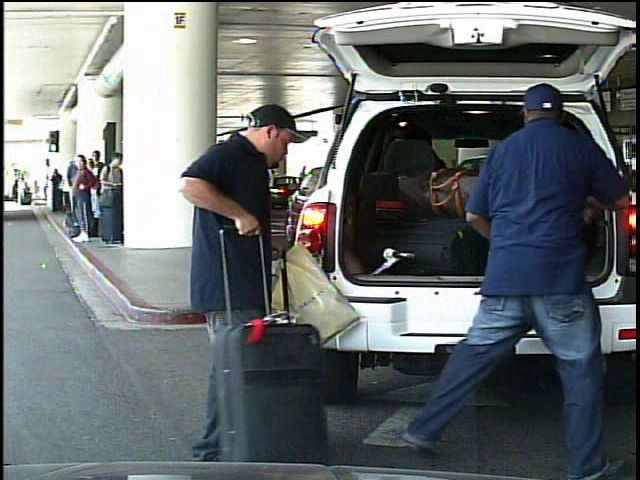person: (416, 77, 618, 479), (155, 95, 298, 462), (17, 174, 28, 205), (297, 164, 307, 193)
